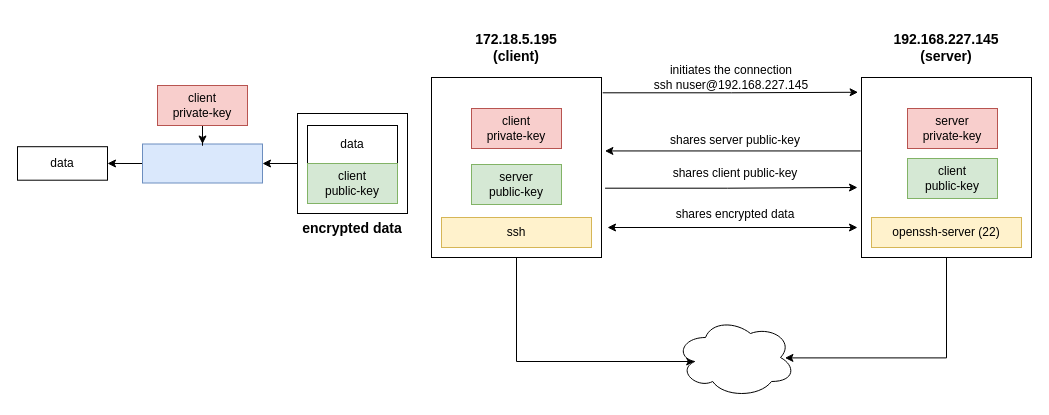
This 1049x415 diagram has some shape labels left out. Here are the shapes that lost their labels. From the top down, the centre of each, then its label:
At point (202, 163): "decryption".
At point (735, 357): "network".
